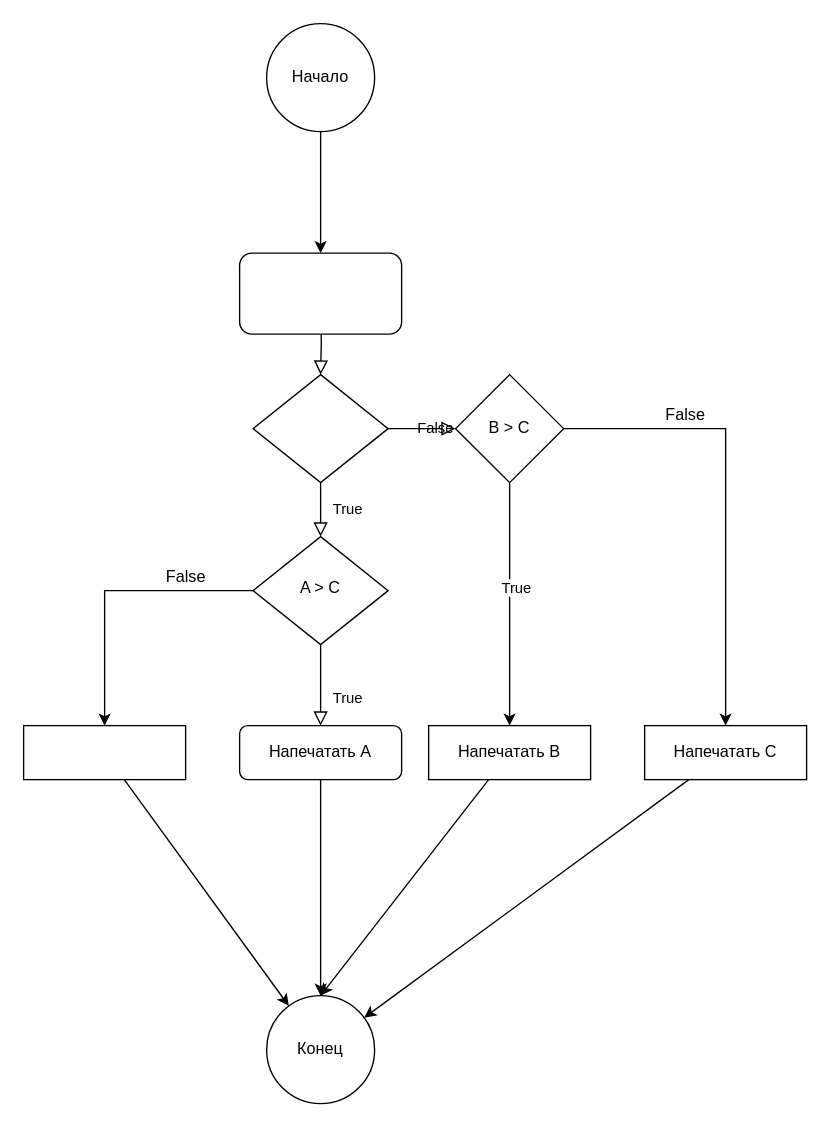
This 830x1127 diagram has some shape labels left out. The shapes that lost their labels are listed below. From the top down, each one's centre as x and y in pixels, then its label:
At [320,293]: "Объявляем переменные A,B,C".
At [320,428]: "A > B".
At [104,752]: "Напечатать С".
